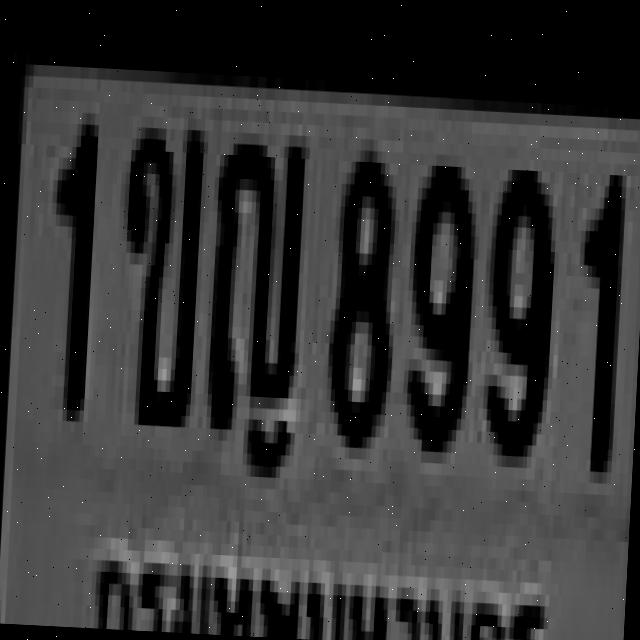1: (570, 162, 623, 461), (42, 112, 94, 410)
11KhorKhai: (114, 116, 200, 416)
22YorYing: (203, 120, 304, 433)
8: (320, 138, 396, 438)
9: (476, 157, 556, 457), (401, 154, 475, 442)
